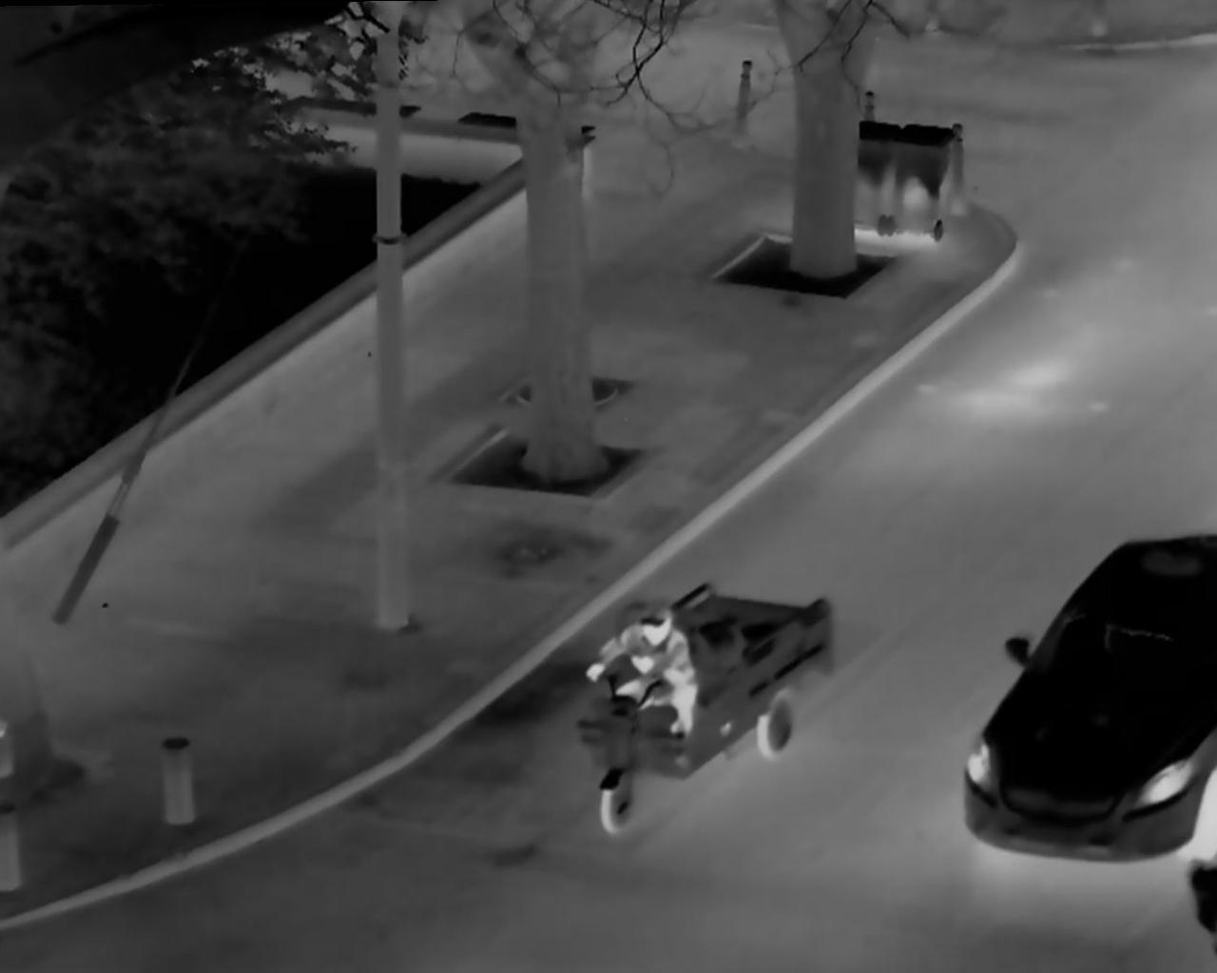person: (586, 599, 716, 789)
